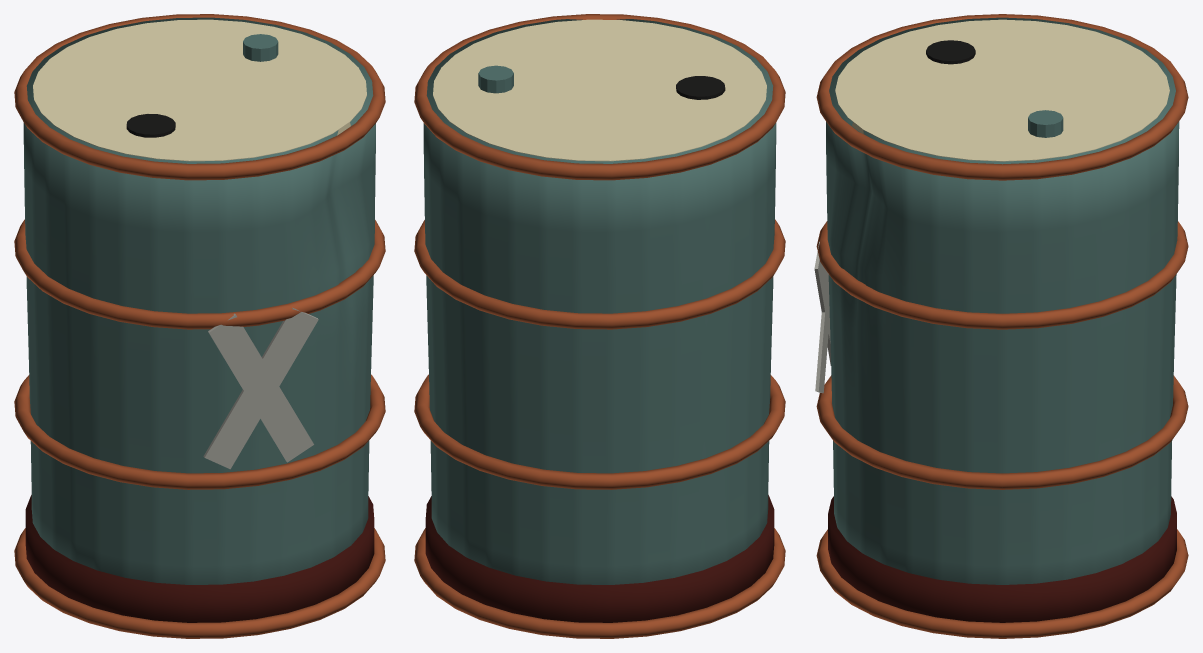
The model's file is oil_drum.glb.
3 renders of one model, left to right at view 1: azimuth 30°, elevation 25°; view 2: azimuth 150°, elevation 25°; view 3: azimuth 270°, elevation 25°, orthographic.
Parts seen in each view (by area): view 1: drum_body, lid, base_grime, rim_top, hoop_low, rim_bottom, hoop_high, tape_32, tape_-28, fill_hole, bung; view 2: drum_body, lid, base_grime, rim_top, hoop_low, rim_bottom, hoop_high, fill_hole, bung; view 3: drum_body, lid, base_grime, rim_top, hoop_low, rim_bottom, hoop_high, fill_hole, bung, tape_-28, tape_32.
Boxes of the visible parts, x1=… form: drum_body: x1=23, y1=17, x2=375, y2=584; lid: x1=33, y1=19, x2=366, y2=161; base_grime: x1=25, y1=495, x2=374, y2=622; rim_top: x1=14, y1=14, x2=385, y2=180; hoop_low: x1=14, y1=374, x2=385, y2=489; rim_bottom: x1=14, y1=528, x2=385, y2=638; hoop_high: x1=14, y1=219, x2=385, y2=329; tape_32: x1=203, y1=308, x2=318, y2=469; tape_-28: x1=208, y1=313, x2=313, y2=462; fill_hole: x1=126, y1=114, x2=175, y2=137; bung: x1=243, y1=34, x2=278, y2=61; drum_body: x1=423, y1=19, x2=776, y2=584; lid: x1=433, y1=19, x2=766, y2=161; base_grime: x1=425, y1=495, x2=774, y2=622; rim_top: x1=414, y1=14, x2=785, y2=180; hoop_low: x1=414, y1=374, x2=785, y2=489; rim_bottom: x1=414, y1=528, x2=785, y2=638; hoop_high: x1=414, y1=219, x2=785, y2=329; fill_hole: x1=676, y1=76, x2=725, y2=99; bung: x1=478, y1=65, x2=513, y2=93; drum_body: x1=826, y1=17, x2=1179, y2=584; lid: x1=835, y1=19, x2=1169, y2=161; base_grime: x1=828, y1=496, x2=1176, y2=622; rim_top: x1=816, y1=14, x2=1188, y2=180; hoop_low: x1=816, y1=375, x2=1188, y2=489; rim_bottom: x1=816, y1=529, x2=1188, y2=638; hoop_high: x1=816, y1=221, x2=1188, y2=329; fill_hole: x1=926, y1=40, x2=975, y2=64; bung: x1=1028, y1=110, x2=1063, y2=137; tape_-28: x1=815, y1=273, x2=829, y2=393; tape_32: x1=814, y1=241, x2=831, y2=365.
Bounding box in the file's own units: 0.6295 × 0.9051 × 0.6332.
